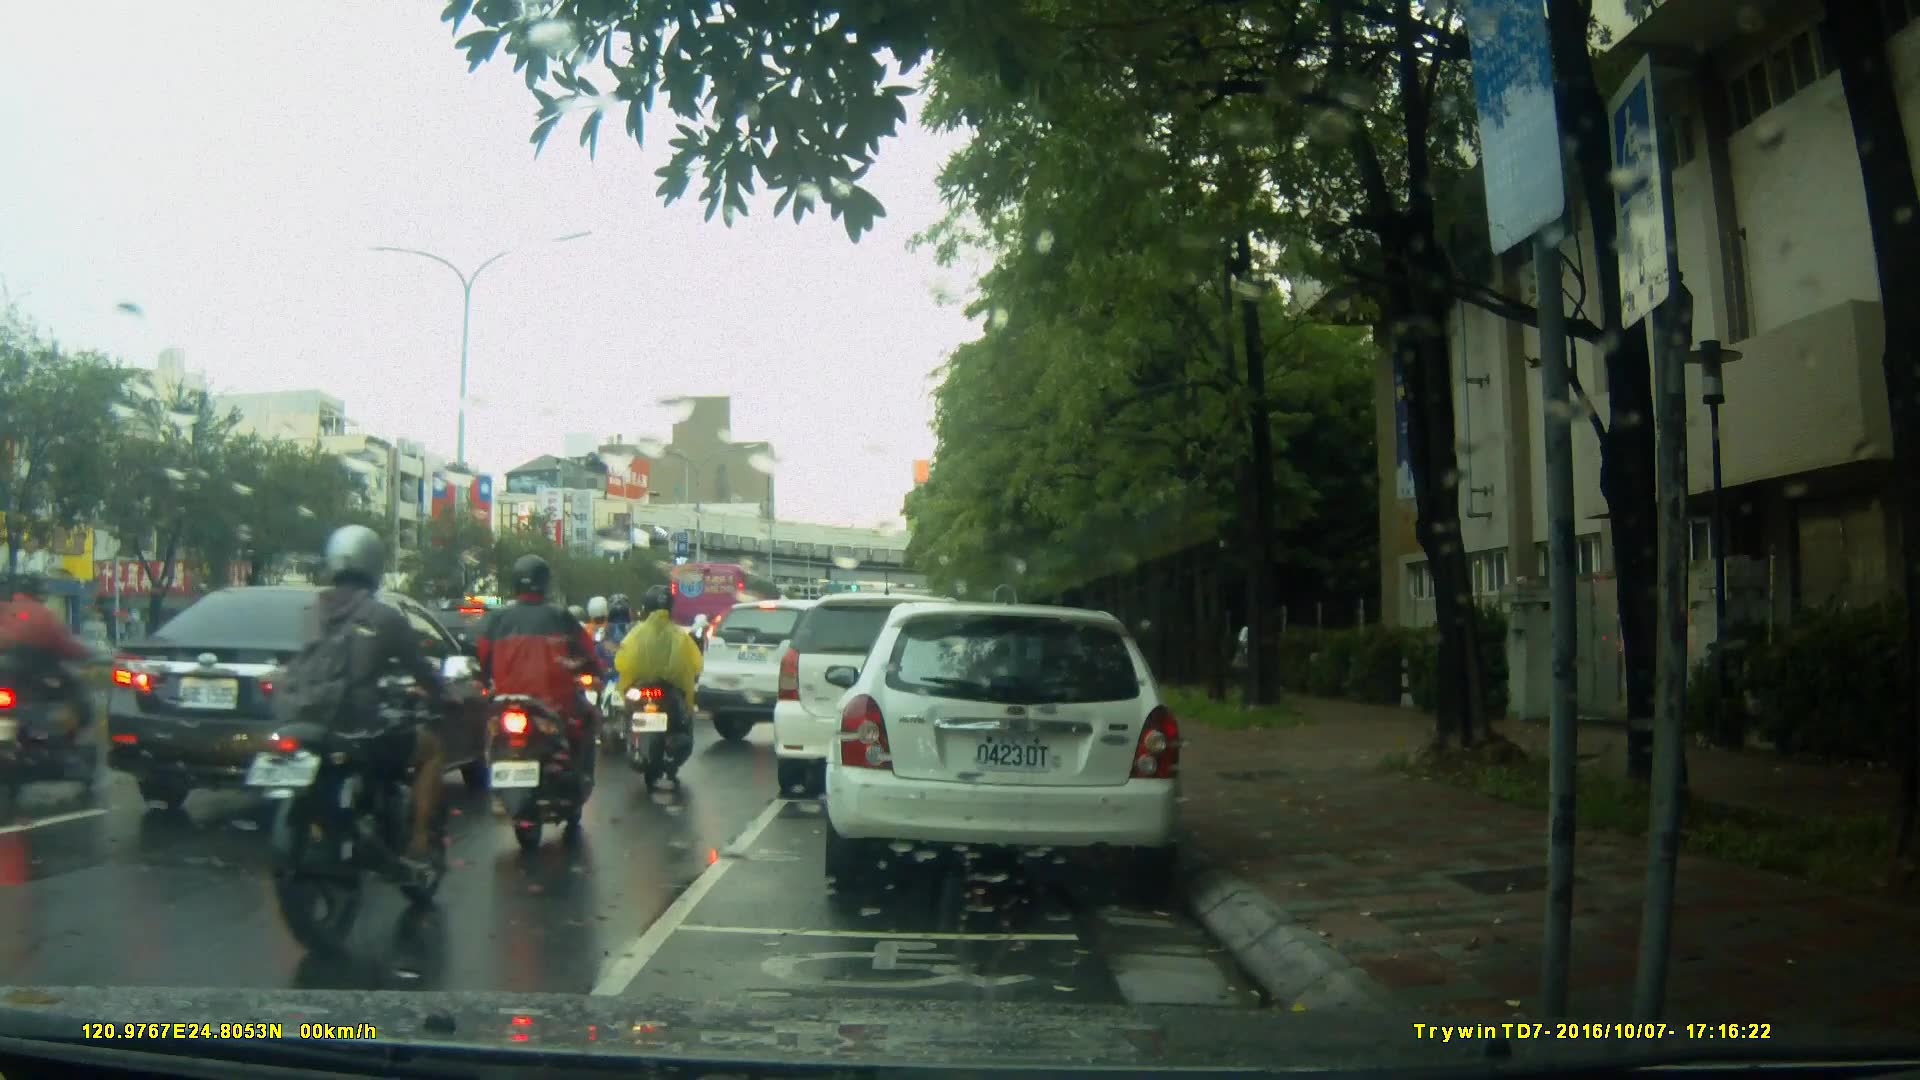rider: (236, 524, 485, 971), (487, 554, 602, 845), (2, 579, 102, 786), (612, 590, 710, 792), (598, 592, 659, 756), (569, 594, 627, 734)
vehicle: (835, 594, 1194, 898), (101, 583, 513, 822), (776, 590, 1026, 784), (692, 594, 918, 746), (667, 562, 779, 643)
